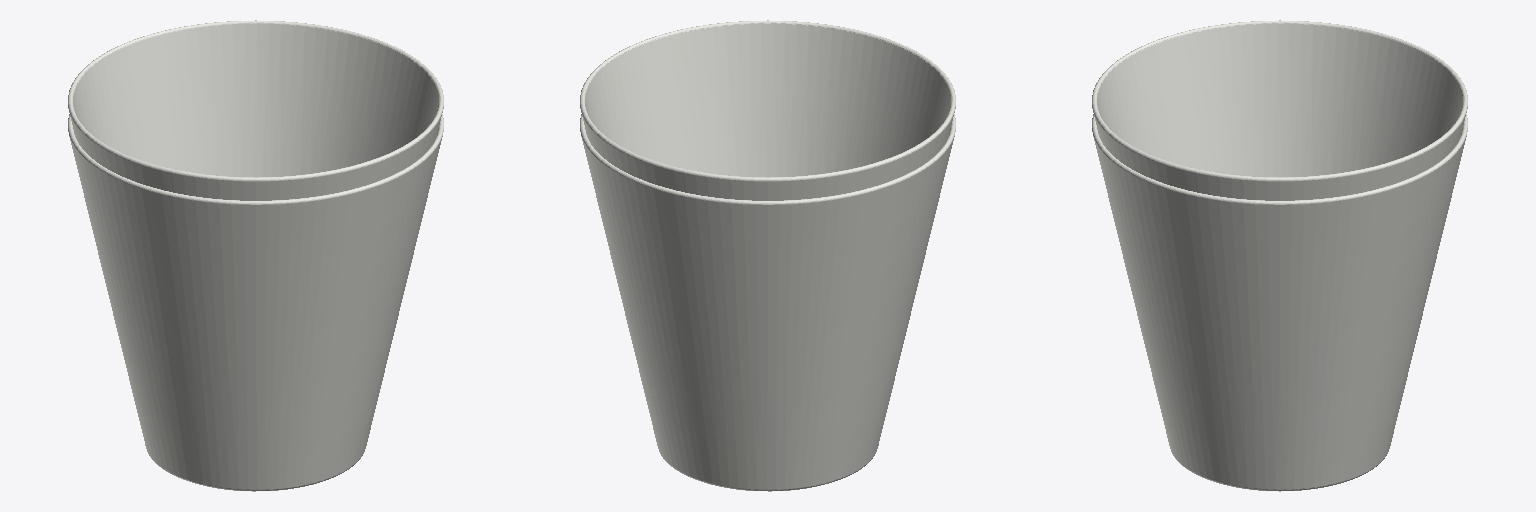
The robot description file, URDF, robot "cb_cup_stack_n2":
<?xml version="1.0"?>
<!-- ContactBench cup_stack_n2. Generated by FoundationTouch tools/contactbench/make_contactbench_assets.py -->
<robot name="cb_cup_stack_n2">
  <material name="c"><color rgba="0.92 0.92 0.90 1.0"/></material>
  <link name="receptive">
    <visual><origin xyz="0 0 0" rpy="0 0 0"/><geometry><mesh filename="cup_stack_n2.obj" scale="1 1 1"/></geometry><material name="c"/></visual>
    <collision><origin xyz="0 0 0" rpy="0 0 0"/><geometry><mesh filename="coll_000.obj" scale="1 1 1"/></geometry></collision>
    <collision><origin xyz="0 0 0" rpy="0 0 0"/><geometry><mesh filename="coll_001.obj" scale="1 1 1"/></geometry></collision>
    <collision><origin xyz="0 0 0" rpy="0 0 0"/><geometry><mesh filename="coll_002.obj" scale="1 1 1"/></geometry></collision>
    <collision><origin xyz="0 0 0" rpy="0 0 0"/><geometry><mesh filename="coll_003.obj" scale="1 1 1"/></geometry></collision>
    <collision><origin xyz="0 0 0" rpy="0 0 0"/><geometry><mesh filename="coll_004.obj" scale="1 1 1"/></geometry></collision>
    <collision><origin xyz="0 0 0" rpy="0 0 0"/><geometry><mesh filename="coll_005.obj" scale="1 1 1"/></geometry></collision>
    <collision><origin xyz="0 0 0" rpy="0 0 0"/><geometry><mesh filename="coll_006.obj" scale="1 1 1"/></geometry></collision>
    <collision><origin xyz="0 0 0" rpy="0 0 0"/><geometry><mesh filename="coll_007.obj" scale="1 1 1"/></geometry></collision>
    <collision><origin xyz="0 0 0" rpy="0 0 0"/><geometry><mesh filename="coll_008.obj" scale="1 1 1"/></geometry></collision>
    <collision><origin xyz="0 0 0" rpy="0 0 0"/><geometry><mesh filename="coll_009.obj" scale="1 1 1"/></geometry></collision>
    <collision><origin xyz="0 0 0" rpy="0 0 0"/><geometry><mesh filename="coll_010.obj" scale="1 1 1"/></geometry></collision>
    <collision><origin xyz="0 0 0" rpy="0 0 0"/><geometry><mesh filename="coll_011.obj" scale="1 1 1"/></geometry></collision>
    <collision><origin xyz="0 0 0" rpy="0 0 0"/><geometry><mesh filename="coll_012.obj" scale="1 1 1"/></geometry></collision>
    <collision><origin xyz="0 0 0" rpy="0 0 0"/><geometry><mesh filename="coll_013.obj" scale="1 1 1"/></geometry></collision>
    <collision><origin xyz="0 0 0" rpy="0 0 0"/><geometry><mesh filename="coll_014.obj" scale="1 1 1"/></geometry></collision>
    <collision><origin xyz="0 0 0" rpy="0 0 0"/><geometry><mesh filename="coll_015.obj" scale="1 1 1"/></geometry></collision>
    <collision><origin xyz="0 0 0" rpy="0 0 0"/><geometry><mesh filename="coll_016.obj" scale="1 1 1"/></geometry></collision>
    <collision><origin xyz="0 0 0" rpy="0 0 0"/><geometry><mesh filename="coll_017.obj" scale="1 1 1"/></geometry></collision>
    <collision><origin xyz="0 0 0" rpy="0 0 0"/><geometry><mesh filename="coll_018.obj" scale="1 1 1"/></geometry></collision>
    <collision><origin xyz="0 0 0" rpy="0 0 0"/><geometry><mesh filename="coll_019.obj" scale="1 1 1"/></geometry></collision>
    <collision><origin xyz="0 0 0" rpy="0 0 0"/><geometry><mesh filename="coll_020.obj" scale="1 1 1"/></geometry></collision>
    <collision><origin xyz="0 0 0" rpy="0 0 0"/><geometry><mesh filename="coll_021.obj" scale="1 1 1"/></geometry></collision>
    <collision><origin xyz="0 0 0" rpy="0 0 0"/><geometry><mesh filename="coll_022.obj" scale="1 1 1"/></geometry></collision>
    <collision><origin xyz="0 0 0" rpy="0 0 0"/><geometry><mesh filename="coll_023.obj" scale="1 1 1"/></geometry></collision>
    <collision><origin xyz="0 0 0" rpy="0 0 0"/><geometry><mesh filename="coll_024.obj" scale="1 1 1"/></geometry></collision>
    <collision><origin xyz="0 0 0" rpy="0 0 0"/><geometry><mesh filename="coll_025.obj" scale="1 1 1"/></geometry></collision>
    <collision><origin xyz="0 0 0" rpy="0 0 0"/><geometry><mesh filename="coll_026.obj" scale="1 1 1"/></geometry></collision>
    <collision><origin xyz="0 0 0" rpy="0 0 0"/><geometry><mesh filename="coll_027.obj" scale="1 1 1"/></geometry></collision>
    <collision><origin xyz="0 0 0" rpy="0 0 0"/><geometry><mesh filename="coll_028.obj" scale="1 1 1"/></geometry></collision>
    <collision><origin xyz="0 0 0" rpy="0 0 0"/><geometry><mesh filename="coll_029.obj" scale="1 1 1"/></geometry></collision>
    <collision><origin xyz="0 0 0" rpy="0 0 0"/><geometry><mesh filename="coll_030.obj" scale="1 1 1"/></geometry></collision>
    <collision><origin xyz="0 0 0" rpy="0 0 0"/><geometry><mesh filename="coll_031.obj" scale="1 1 1"/></geometry></collision>
    <collision><origin xyz="0 0 0" rpy="0 0 0"/><geometry><mesh filename="coll_032.obj" scale="1 1 1"/></geometry></collision>
    <collision><origin xyz="0 0 0" rpy="0 0 0"/><geometry><mesh filename="coll_033.obj" scale="1 1 1"/></geometry></collision>
    <collision><origin xyz="0 0 0" rpy="0 0 0"/><geometry><mesh filename="coll_034.obj" scale="1 1 1"/></geometry></collision>
    <collision><origin xyz="0 0 0" rpy="0 0 0"/><geometry><mesh filename="coll_035.obj" scale="1 1 1"/></geometry></collision>
    <collision><origin xyz="0 0 0" rpy="0 0 0"/><geometry><mesh filename="coll_036.obj" scale="1 1 1"/></geometry></collision>
    <collision><origin xyz="0 0 0" rpy="0 0 0"/><geometry><mesh filename="coll_037.obj" scale="1 1 1"/></geometry></collision>
    <collision><origin xyz="0 0 0" rpy="0 0 0"/><geometry><mesh filename="coll_038.obj" scale="1 1 1"/></geometry></collision>
    <collision><origin xyz="0 0 0" rpy="0 0 0"/><geometry><mesh filename="coll_039.obj" scale="1 1 1"/></geometry></collision>
    <collision><origin xyz="0 0 0" rpy="0 0 0"/><geometry><mesh filename="coll_040.obj" scale="1 1 1"/></geometry></collision>
    <collision><origin xyz="0 0 0" rpy="0 0 0"/><geometry><mesh filename="coll_041.obj" scale="1 1 1"/></geometry></collision>
    <collision><origin xyz="0 0 0" rpy="0 0 0"/><geometry><mesh filename="coll_042.obj" scale="1 1 1"/></geometry></collision>
    <collision><origin xyz="0 0 0" rpy="0 0 0"/><geometry><mesh filename="coll_043.obj" scale="1 1 1"/></geometry></collision>
    <collision><origin xyz="0 0 0" rpy="0 0 0"/><geometry><mesh filename="coll_044.obj" scale="1 1 1"/></geometry></collision>
    <collision><origin xyz="0 0 0" rpy="0 0 0"/><geometry><mesh filename="coll_045.obj" scale="1 1 1"/></geometry></collision>
    <collision><origin xyz="0 0 0" rpy="0 0 0"/><geometry><mesh filename="coll_046.obj" scale="1 1 1"/></geometry></collision>
    <collision><origin xyz="0 0 0" rpy="0 0 0"/><geometry><mesh filename="coll_047.obj" scale="1 1 1"/></geometry></collision>
    <collision><origin xyz="0 0 0" rpy="0 0 0"/><geometry><mesh filename="coll_048.obj" scale="1 1 1"/></geometry></collision>
    <collision><origin xyz="0 0 0" rpy="0 0 0"/><geometry><mesh filename="coll_049.obj" scale="1 1 1"/></geometry></collision>
  </link>
</robot>

--- Render facts (derived) ---
3 views of the same robot in one strip: view 1: azimuth 30°, elevation 25°; view 2: azimuth 150°, elevation 25°; view 3: azimuth 270°, elevation 25° (orthographic).
Model cb_cup_stack_n2 with 1 links and 0 joints (none), rooted at receptive, posed every joint at zero.
Links seen in each view (by area): view 1: receptive; view 2: receptive; view 3: receptive.
Link boxes in pixels (bbox=[...]): receptive: bbox=[68, 20, 443, 491]; receptive: bbox=[580, 20, 955, 491]; receptive: bbox=[1092, 20, 1467, 491].
Size in the robot's own frame: 0.0686 by 0.0686 by 0.0698 metres.
1 mesh visuals loaded from 1 distinct referenced files (1 OBJ).
